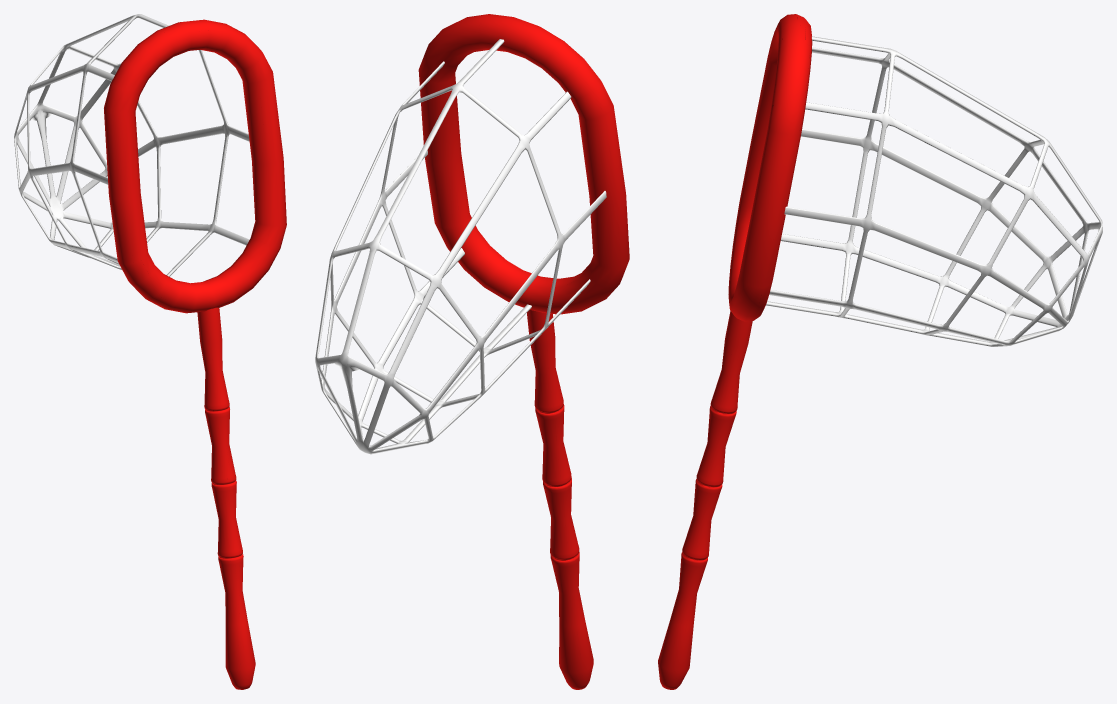
Rendered from Net.obj.
3 views of the same model, side by side, from view 1: azimuth 30°, elevation 25°; view 2: azimuth 150°, elevation 25°; view 3: azimuth 270°, elevation 25° (orthographic). The views are drawn at different scales.
Parts seen in each view (by area): view 1: Jelly_Fish_Net_Mesh.001_Jelly_Fish_Net_Mesh.001_02_-_Default, Jelly_Fish_Net_Mesh.001_Jelly_Fish_Net_Mesh.001_03_-_Default; view 2: Jelly_Fish_Net_Mesh.001_Jelly_Fish_Net_Mesh.001_02_-_Default, Jelly_Fish_Net_Mesh.001_Jelly_Fish_Net_Mesh.001_03_-_Default; view 3: Jelly_Fish_Net_Mesh.001_Jelly_Fish_Net_Mesh.001_02_-_Default, Jelly_Fish_Net_Mesh.001_Jelly_Fish_Net_Mesh.001_03_-_Default.
Boxes of the visible parts, x1,y1,x2,y2 form: Jelly_Fish_Net_Mesh.001_Jelly_Fish_Net_Mesh.001_02_-_Default: [104, 19, 286, 689]; Jelly_Fish_Net_Mesh.001_Jelly_Fish_Net_Mesh.001_03_-_Default: [14, 14, 249, 276]; Jelly_Fish_Net_Mesh.001_Jelly_Fish_Net_Mesh.001_02_-_Default: [418, 14, 629, 689]; Jelly_Fish_Net_Mesh.001_Jelly_Fish_Net_Mesh.001_03_-_Default: [315, 39, 606, 454]; Jelly_Fish_Net_Mesh.001_Jelly_Fish_Net_Mesh.001_02_-_Default: [658, 14, 812, 689]; Jelly_Fish_Net_Mesh.001_Jelly_Fish_Net_Mesh.001_03_-_Default: [766, 36, 1102, 346].
Size of the model in its own units: 0.9603 by 3.35 by 2.03.
